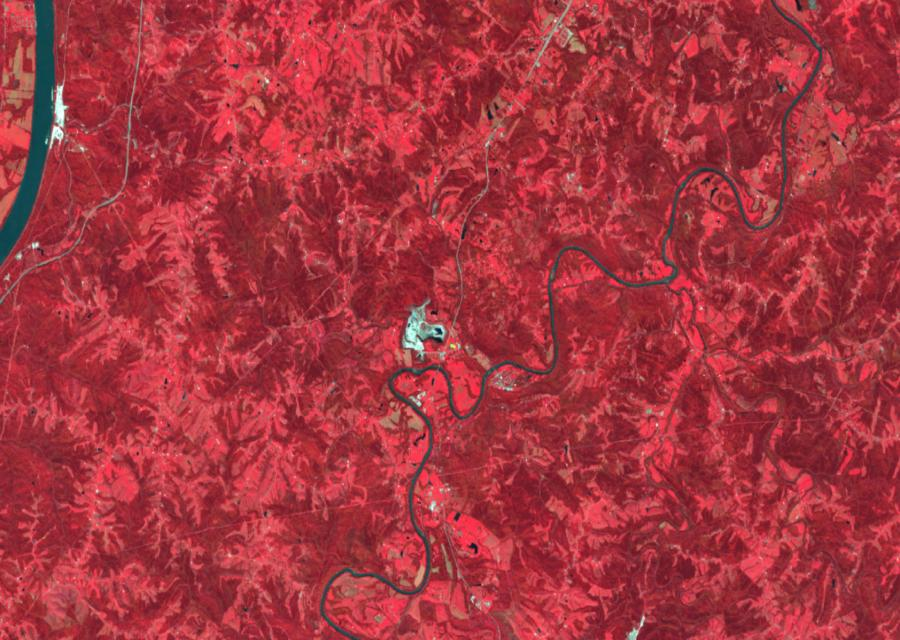Potential Lime Manufacturing Facility: (49, 86, 67, 147)
